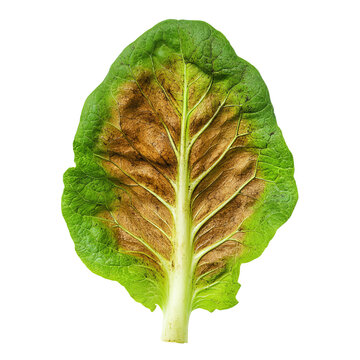lettuce rotten: (45, 11, 309, 326)
